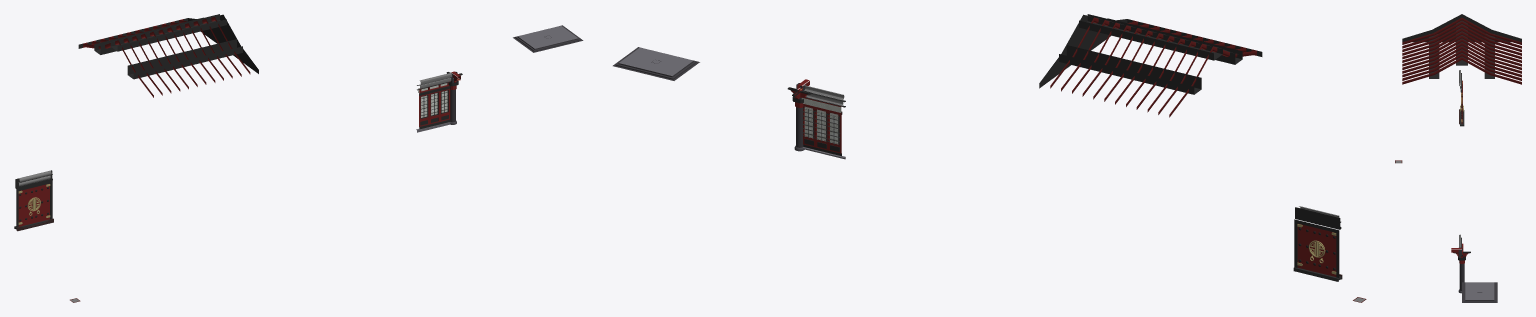
Rendered from stage1.fbx.
3 views of the same model, side by side, from view 1: azimuth 30°, elevation 25°; view 2: azimuth 150°, elevation 25°; view 3: azimuth 270°, elevation 25° (orthographic). The views are drawn at different scales.
Parts seen in each view (by area): view 1: Box007, Plane008, Box002, Door_frame, Door_Left, Door_Right; view 2: Box007, Plane008, Box002, Door_frame, Door_Right, Door_Left; view 3: Box007, Box002, Plane008, Door_frame.
Part boxes in pixels (x1=…): Box007: x1=78, y1=14, x2=258, y2=97; Plane008: x1=416, y1=71, x2=462, y2=132; Box002: x1=513, y1=25, x2=583, y2=52; Door_frame: x1=14, y1=170, x2=53, y2=231; Door_Left: x1=18, y1=187, x2=34, y2=226; Door_Right: x1=34, y1=183, x2=50, y2=222; Box007: x1=1039, y1=14, x2=1262, y2=117; Plane008: x1=787, y1=83, x2=845, y2=159; Box002: x1=613, y1=47, x2=699, y2=80; Door_frame: x1=1293, y1=206, x2=1342, y2=281; Door_Right: x1=1297, y1=223, x2=1317, y2=272; Door_Left: x1=1317, y1=228, x2=1336, y2=276; Box007: x1=1402, y1=14, x2=1521, y2=84; Box002: x1=1462, y1=282, x2=1497, y2=302; Plane008: x1=1453, y1=234, x2=1470, y2=293; Door_frame: x1=1459, y1=70, x2=1464, y2=126.
Size of the model in its own units: 7787 by 2792 by 1787.
